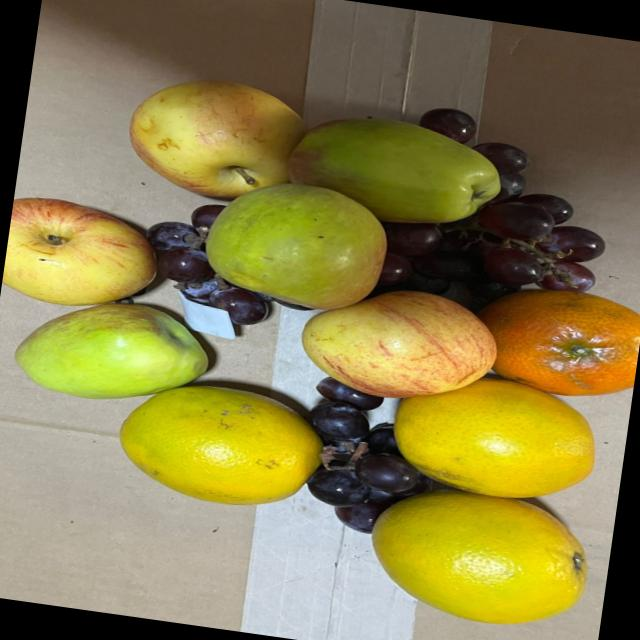hoja: (172, 295, 250, 343)
